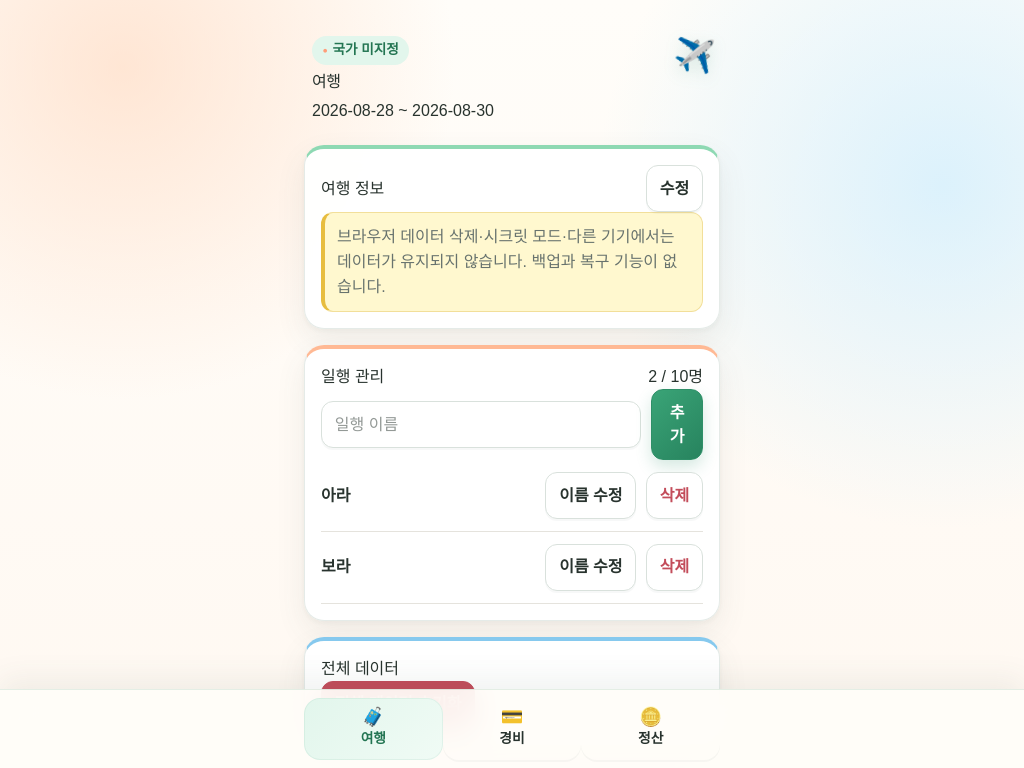
Test: AppShell › 정산 화면에 공동 경비 집계, 최소 송금과 항목별 분할 근거를 표시한다
Expected: the heading "여행 정보" is shown, [321, 177, 384, 201]
Click the button "정산". click: (651, 729)
box: [581, 698, 720, 760]
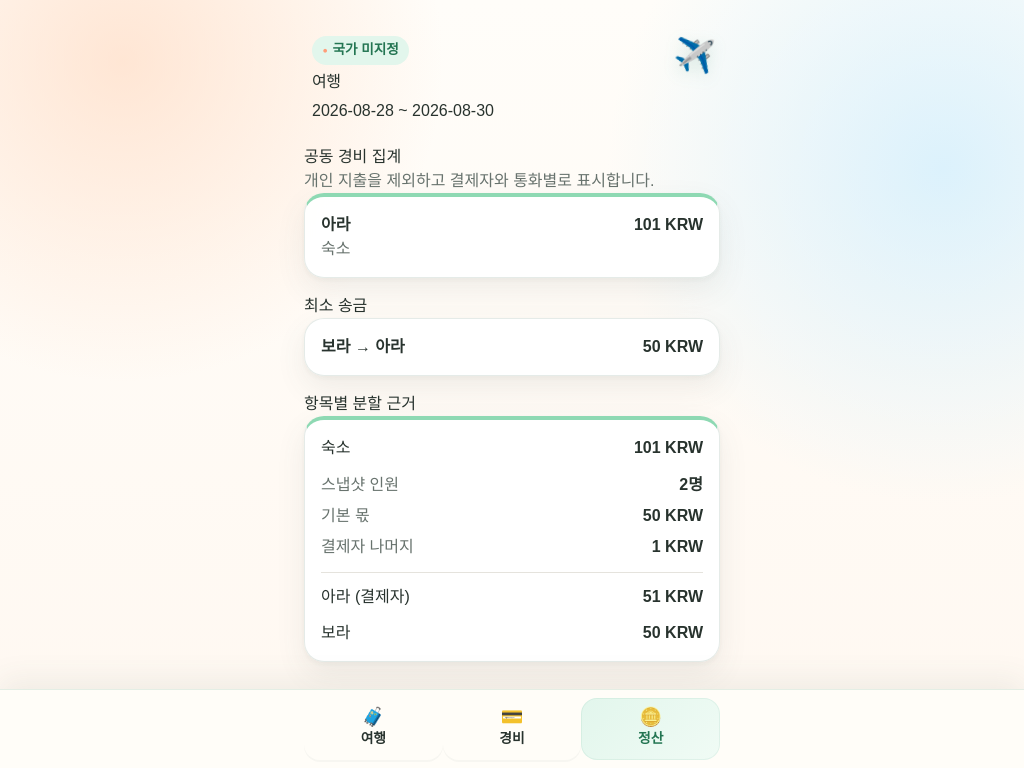
Now the heading "공동 경비 집계" is shown, box [304, 148, 401, 165]
Now the text "101 KRW" is shown 2 times, box [634, 213, 703, 237]; [634, 436, 703, 460]
Now the text "2명" is shown, box [679, 473, 703, 497]
